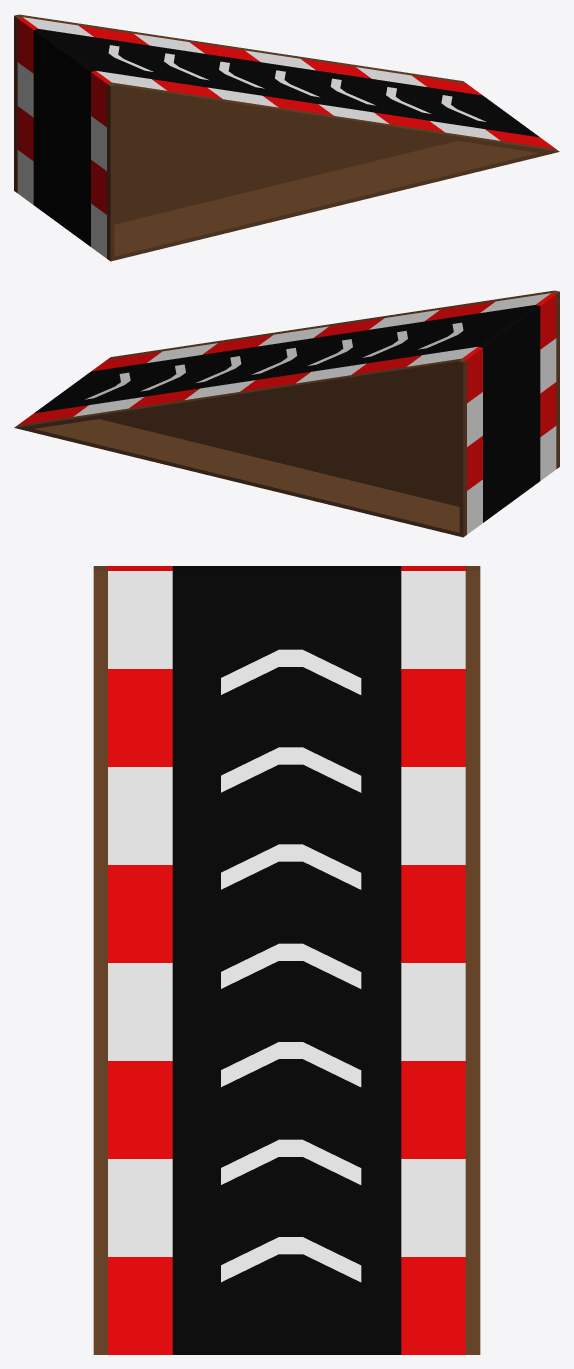
The model's file is ramp01.fbx.
3 views of the same model, one above another, from view 1: azimuth 30°, elevation 25°; view 2: azimuth 150°, elevation 25°; view 3: azimuth 270°, elevation 25° (orthographic). The views are drawn at different scales.
Visible parts, largest first — view 1: Cube; view 2: Cube; view 3: Cube.
Part boxes in pixels (x1,y1,x2,y2): Cube: (14, 14, 559, 261); Cube: (14, 290, 559, 537); Cube: (93, 566, 480, 1354).
Bounding box in the file's own units: 537 × 200 × 200.
